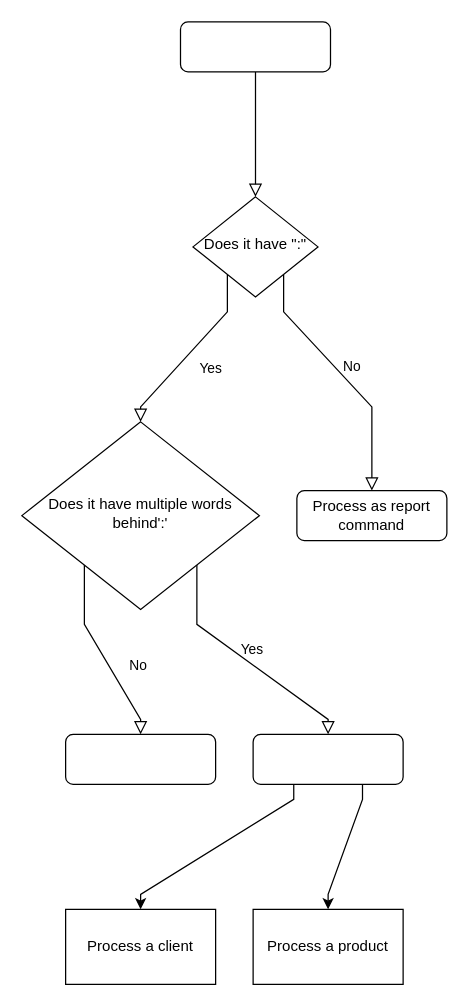
The diagram is 469 pixels wide and 1006 high, and some of its shapes have lost their labels. Each missing label, with the centre of its shape:
"Is the 2nd word product or client" belongs at [327,758].
"Order command" belongs at [140,758].
"Read line" belongs at [254,46].
